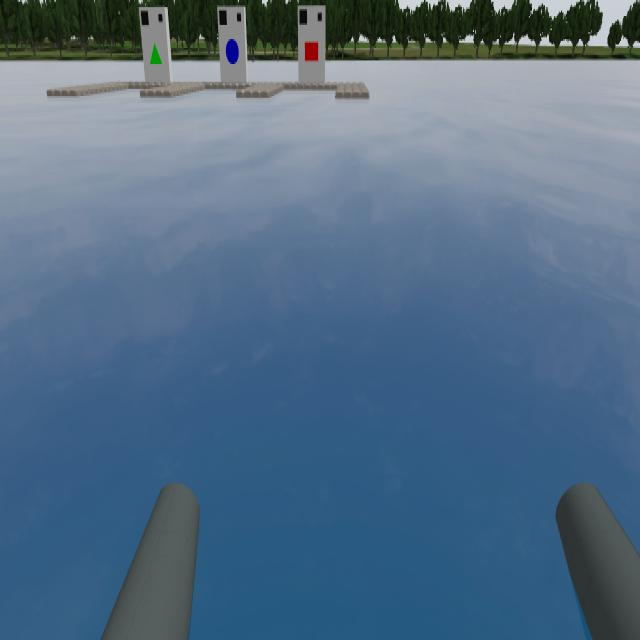dock: (218, 8, 248, 80), (297, 5, 325, 78), (140, 12, 168, 80)
